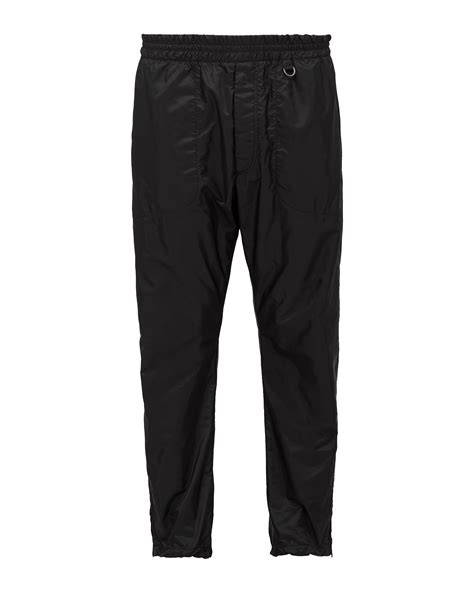nylon: (129, 34, 344, 558)
